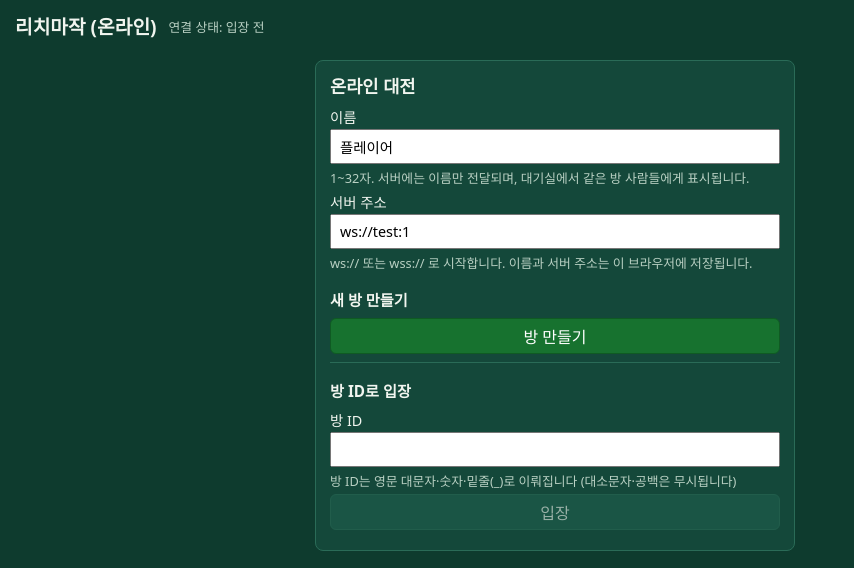
Scenario: App: 연결 UX 화면 › 방에 남은 채 연결이 닫히면 헤더는 연결 끊김이다
Click the button "방 만들기".
click(555, 336)  # box [330, 318, 780, 354]
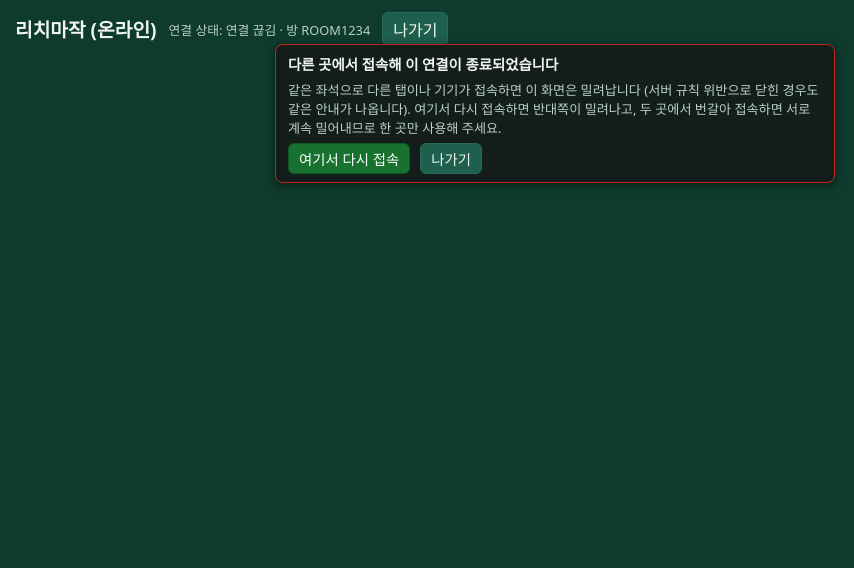
Now the text with test id "server-status" shows "연결 끊김", box [226, 20, 276, 38]
